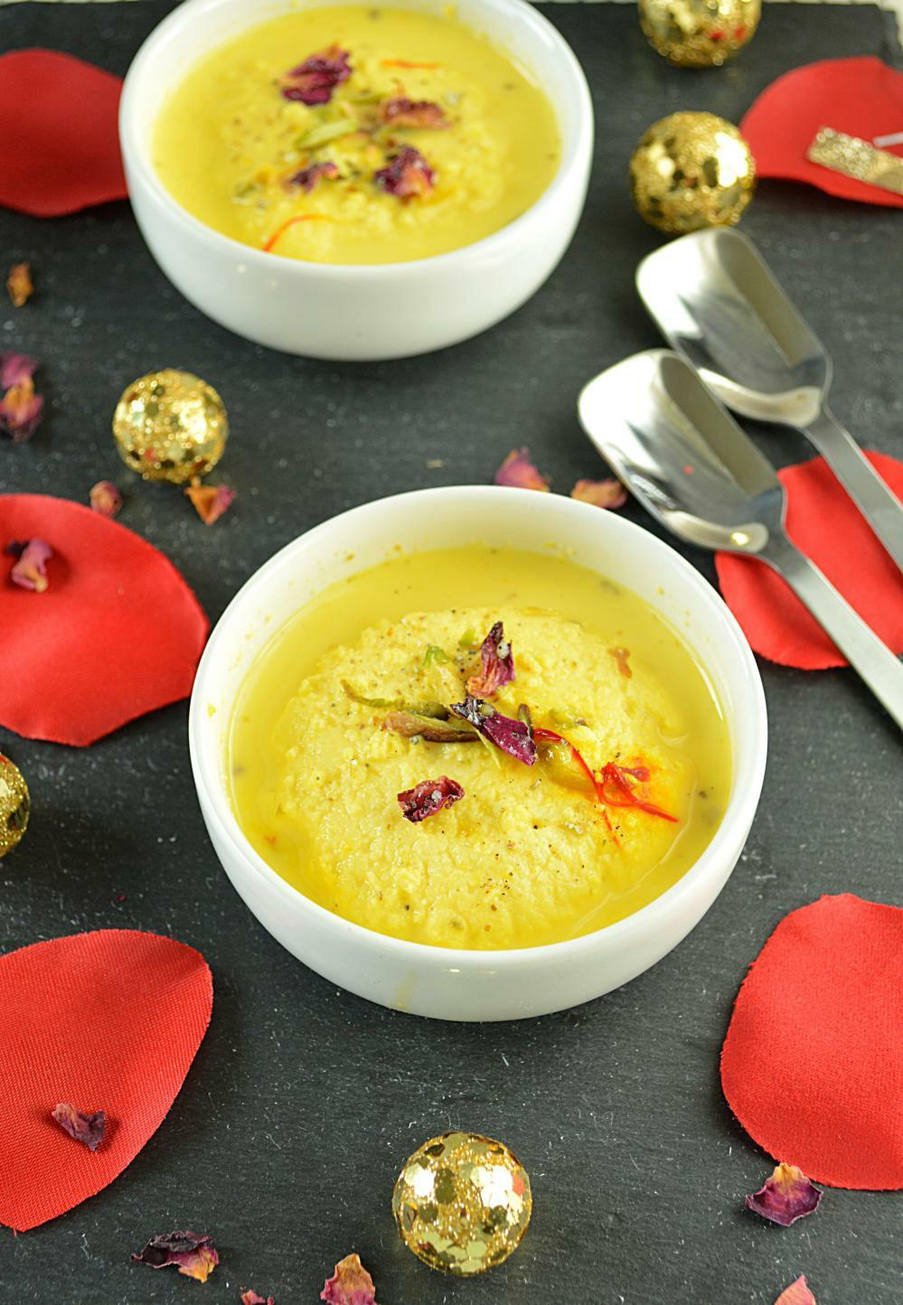RasMalai: (248, 549, 724, 948), (161, 7, 560, 256)
